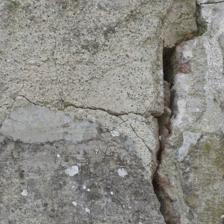Crack: (115, 0, 189, 130), (40, 40, 122, 151)
